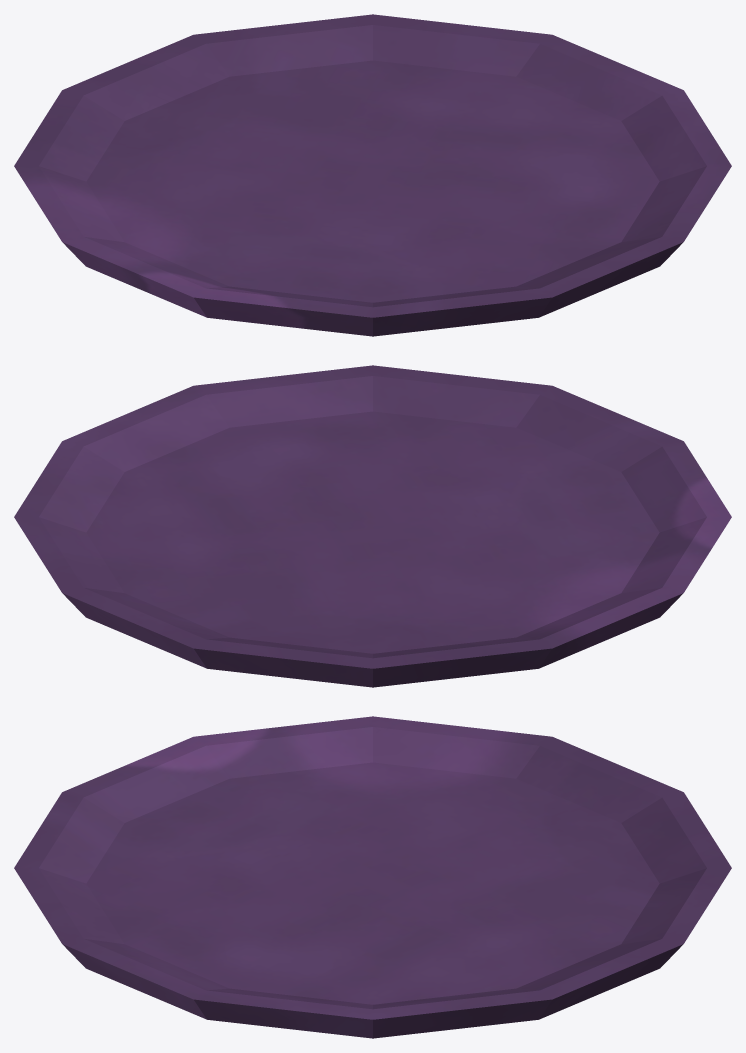
The model's file is assiette.fbx.
3 renders of one model, top to bottom at view 1: azimuth 30°, elevation 25°; view 2: azimuth 150°, elevation 25°; view 3: azimuth 270°, elevation 25°, orthographic.
Parts seen in each view (by area): view 1: pCylinder15; view 2: pCylinder15; view 3: pCylinder15.
Boxes of the visible parts, x1,y1,x2,y2 form: pCylinder15: [14, 14, 731, 336]; pCylinder15: [14, 365, 731, 687]; pCylinder15: [14, 716, 731, 1038].
Size of the model in its own units: 2.52 by 0.1174 by 2.52.
